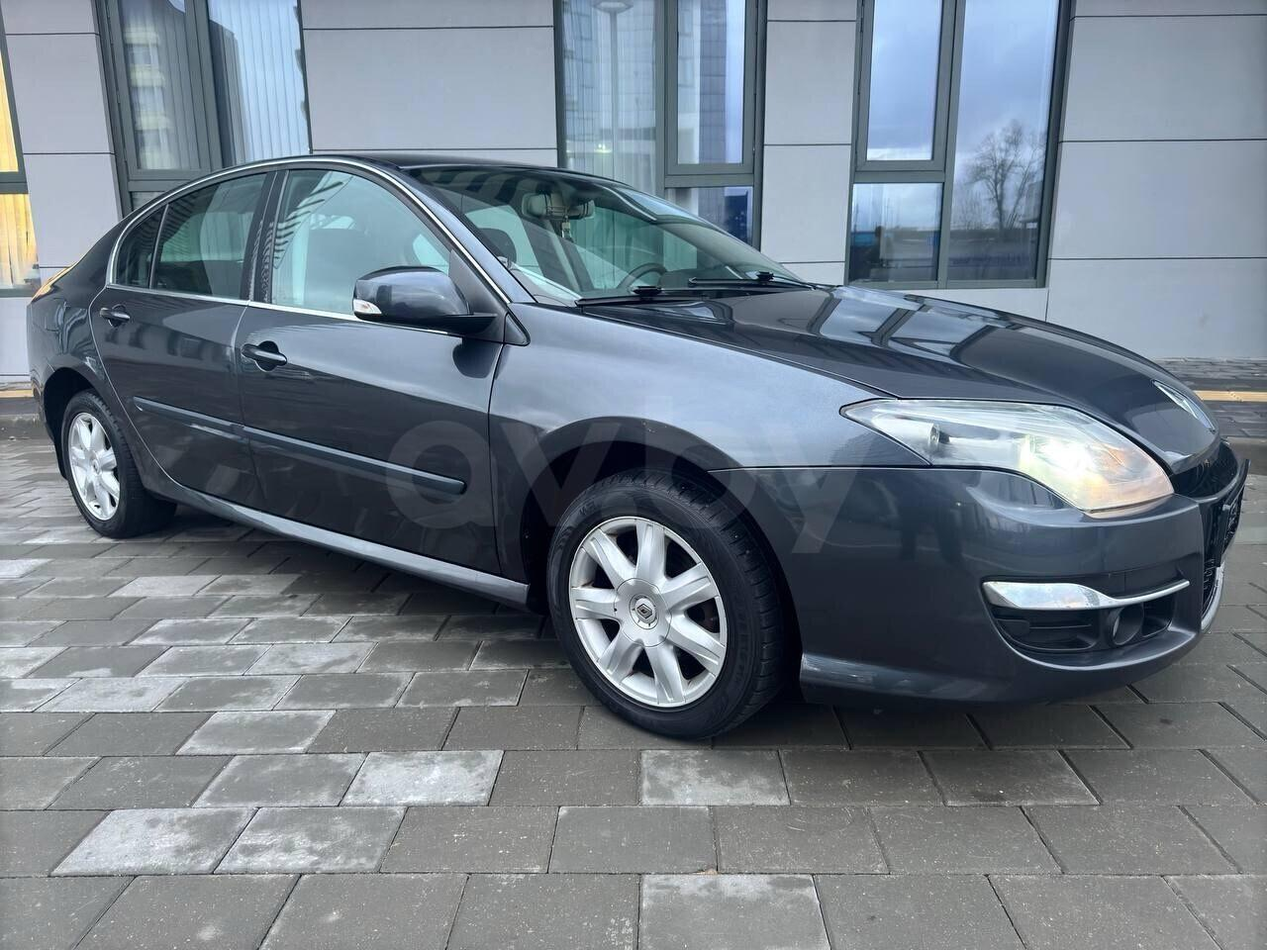Laguna_2010-2015: (21, 143, 1247, 750)
